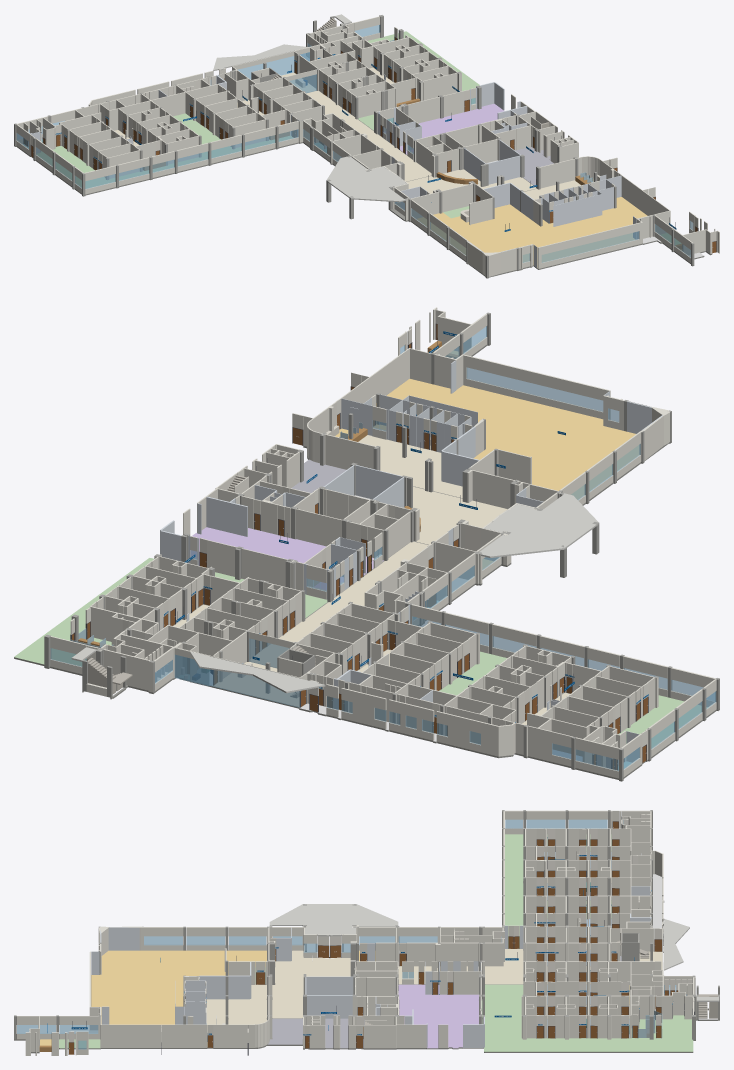
File: solca_pb_vieja.glb
The picture shows the model from 3 angles, top to bottom: view 1: azimuth 30°, elevation 25°; view 2: azimuth 150°, elevation 25°; view 3: azimuth 270°, elevation 25°; orthographic projection. The views are drawn at different scales.
Visible parts, largest first — view 1: muros|0.902,0.884,0.810|0.00, muros|0.810,0.865,0.922|0.00, muros|0.462,0.462,0.436|0.00, pisos|0.980,0.757,0.384|0.00, muros|0.303,0.608,0.846|0.60, pisos|0.922,0.865,0.706|0.00, viseras|0.740,0.740,0.706|0.00, pisos|0.608,0.810,0.548|0.00, muros|0.360,0.160,0.053|0.00, pisos|0.384,0.384,0.360|0.00, pisos|0.722,0.608,0.884|0.00, muros|0.102,0.109,0.130|0.00 (+2 smaller); view 2: muros|0.902,0.884,0.810|0.00, muros|0.810,0.865,0.922|0.00, muros|0.303,0.608,0.846|0.60, muros|0.462,0.462,0.436|0.00, pisos|0.980,0.757,0.384|0.00, pisos|0.922,0.865,0.706|0.00, viseras|0.740,0.740,0.706|0.00, pisos|0.608,0.810,0.548|0.00, muros|0.360,0.160,0.053|0.00, pisos|0.722,0.608,0.884|0.00, pisos|0.384,0.384,0.360|0.00, muros|0.102,0.109,0.130|0.00 (+3 smaller); view 3: muros|0.902,0.884,0.810|0.00, pisos|0.608,0.810,0.548|0.00, pisos|0.980,0.757,0.384|0.00, muros|0.810,0.865,0.922|0.00, pisos|0.922,0.865,0.706|0.00, muros|0.462,0.462,0.436|0.00, muros|0.360,0.160,0.053|0.00, muros|0.303,0.608,0.846|0.60, viseras|0.740,0.740,0.706|0.00, pisos|0.722,0.608,0.884|0.00, muros|0.102,0.109,0.130|0.00, pisos|0.548,0.548,0.608|0.00 (+4 smaller).
Part boxes in pixels (x1,y1,x2,y2): muros|0.902,0.884,0.810|0.00: [16, 16, 719, 276]; muros|0.810,0.865,0.922|0.00: [28, 74, 636, 268]; muros|0.462,0.462,0.436|0.00: [14, 15, 694, 277]; pisos|0.980,0.757,0.384|0.00: [417, 178, 681, 267]; muros|0.303,0.608,0.846|0.60: [16, 25, 693, 262]; pisos|0.922,0.865,0.706|0.00: [114, 67, 580, 200]; viseras|0.740,0.740,0.706|0.00: [213, 14, 406, 202]; pisos|0.608,0.810,0.548|0.00: [37, 31, 681, 244]; muros|0.360,0.160,0.053|0.00: [24, 37, 716, 253]; pisos|0.384,0.384,0.360|0.00: [14, 68, 712, 278]; pisos|0.722,0.608,0.884|0.00: [384, 103, 504, 154]; muros|0.102,0.109,0.130|0.00: [23, 37, 716, 252]; muros|0.902,0.884,0.810|0.00: [50, 307, 716, 778]; muros|0.810,0.865,0.922|0.00: [155, 360, 662, 768]; muros|0.303,0.608,0.846|0.60: [50, 326, 716, 771]; muros|0.462,0.462,0.436|0.00: [44, 312, 719, 779]; pisos|0.980,0.757,0.384|0.00: [335, 350, 638, 568]; pisos|0.922,0.865,0.706|0.00: [173, 435, 569, 725]; viseras|0.740,0.740,0.706|0.00: [71, 493, 599, 693]; pisos|0.608,0.810,0.548|0.00: [14, 558, 707, 747]; muros|0.360,0.160,0.053|0.00: [72, 324, 647, 769]; pisos|0.722,0.608,0.884|0.00: [191, 527, 383, 589]; pisos|0.384,0.384,0.360|0.00: [14, 343, 719, 781]; muros|0.102,0.109,0.130|0.00: [70, 323, 648, 769]; muros|0.902,0.884,0.810|0.00: [16, 810, 709, 1055]; pisos|0.608,0.810,0.548|0.00: [59, 834, 693, 1051]; pisos|0.980,0.757,0.384|0.00: [40, 950, 629, 1047]; muros|0.810,0.865,0.922|0.00: [91, 811, 675, 1047]; pisos|0.922,0.865,0.706|0.00: [206, 869, 662, 1032]; muros|0.462,0.462,0.436|0.00: [14, 810, 719, 1039]; muros|0.360,0.160,0.053|0.00: [69, 821, 678, 1054]; muros|0.303,0.608,0.846|0.60: [17, 819, 676, 1049]; viseras|0.740,0.740,0.706|0.00: [269, 904, 719, 1001]; pisos|0.722,0.608,0.884|0.00: [398, 984, 478, 1048]; muros|0.102,0.109,0.130|0.00: [68, 821, 694, 1055]; pisos|0.548,0.548,0.608|0.00: [268, 956, 621, 1048].
Size of the model in its own units: 79.66 by 4.04 by 107.
